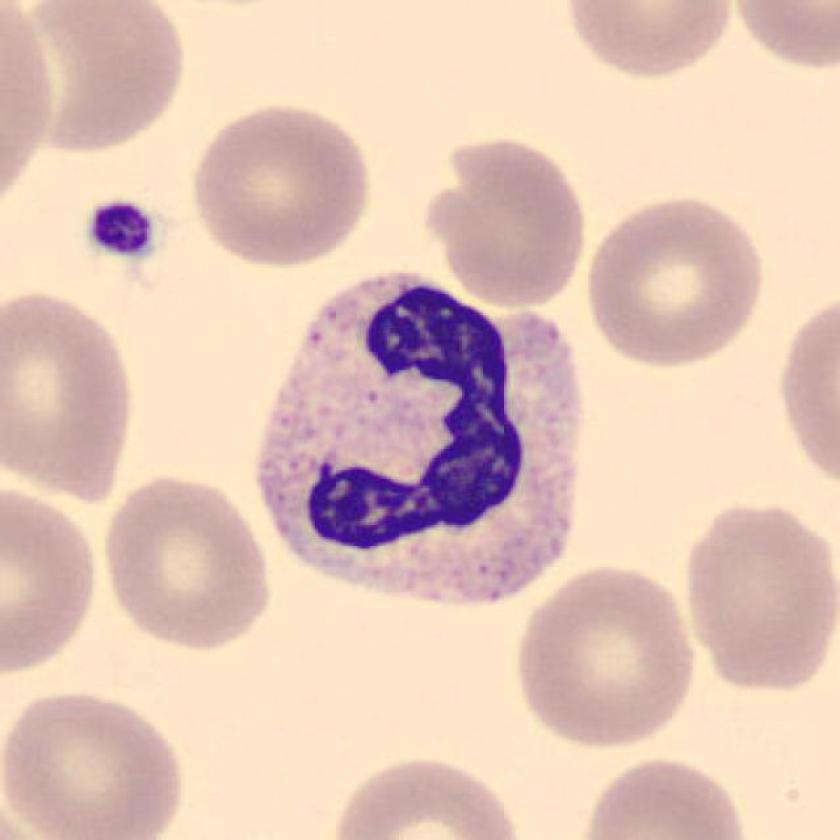neutrophil: (257, 274, 584, 603)
